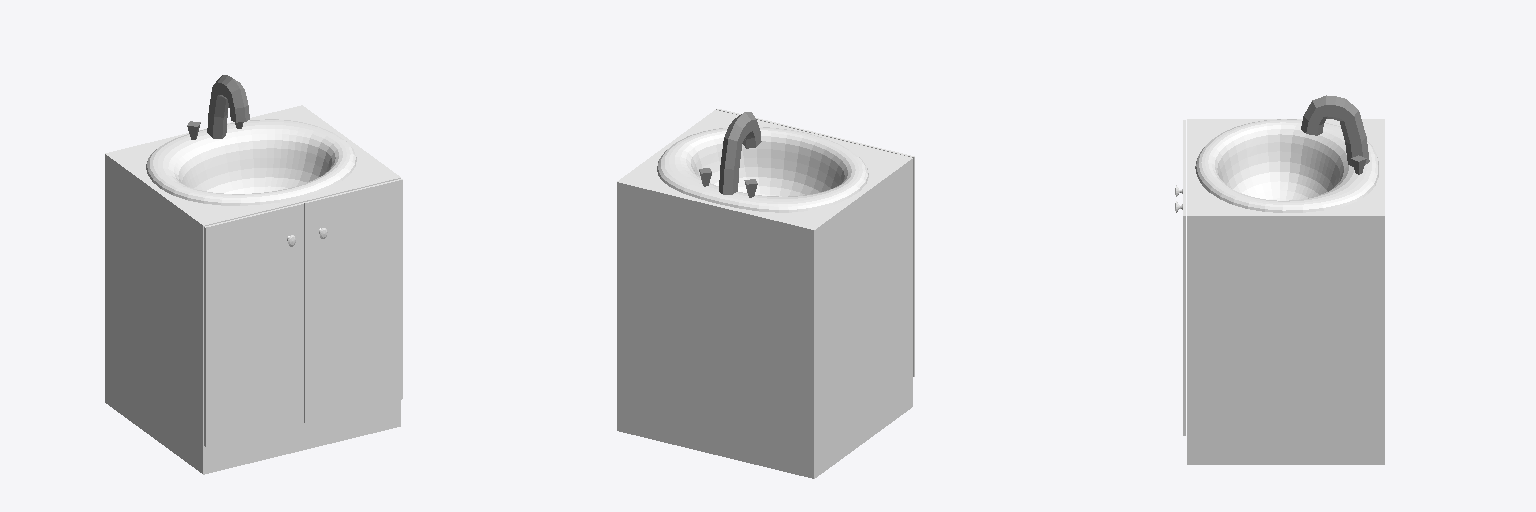
Rendered from washbasin.obj.
3 renders of one model, left to right at view 1: azimuth 30°, elevation 25°; view 2: azimuth 150°, elevation 25°; view 3: azimuth 270°, elevation 25°, orthographic.
Parts seen in each view (by area): view 1: Corps_6, Porte_5, Porte_1_7, Lavabo_1, Robinet_9; view 2: Corps_6, Lavabo_1, Robinet_9, Porte_5; view 3: Corps_6, Lavabo_1, Robinet_9, Porte_1_7.
Boxes of the visible parts, box(x1,y1,x2,y2) form: Corps_6: box(105, 105, 400, 474); Porte_5: box(204, 203, 303, 446); Porte_1_7: box(303, 179, 402, 422); Lavabo_1: box(146, 119, 356, 205); Robinet_9: box(207, 75, 249, 138); Corps_6: box(617, 110, 912, 478); Lavabo_1: box(657, 127, 868, 212); Robinet_9: box(719, 112, 761, 194); Porte_5: box(815, 133, 914, 376); Corps_6: box(1187, 119, 1384, 464); Lavabo_1: box(1195, 119, 1378, 212); Robinet_9: box(1301, 95, 1369, 166); Porte_1_7: box(1183, 168, 1185, 435).
Bounding box in the file's own units: 62.23 × 96.52 × 57.15.